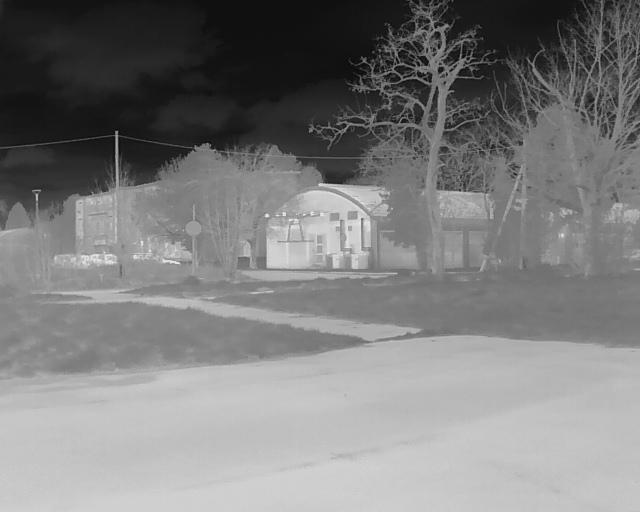drone: (260, 212, 326, 252)
